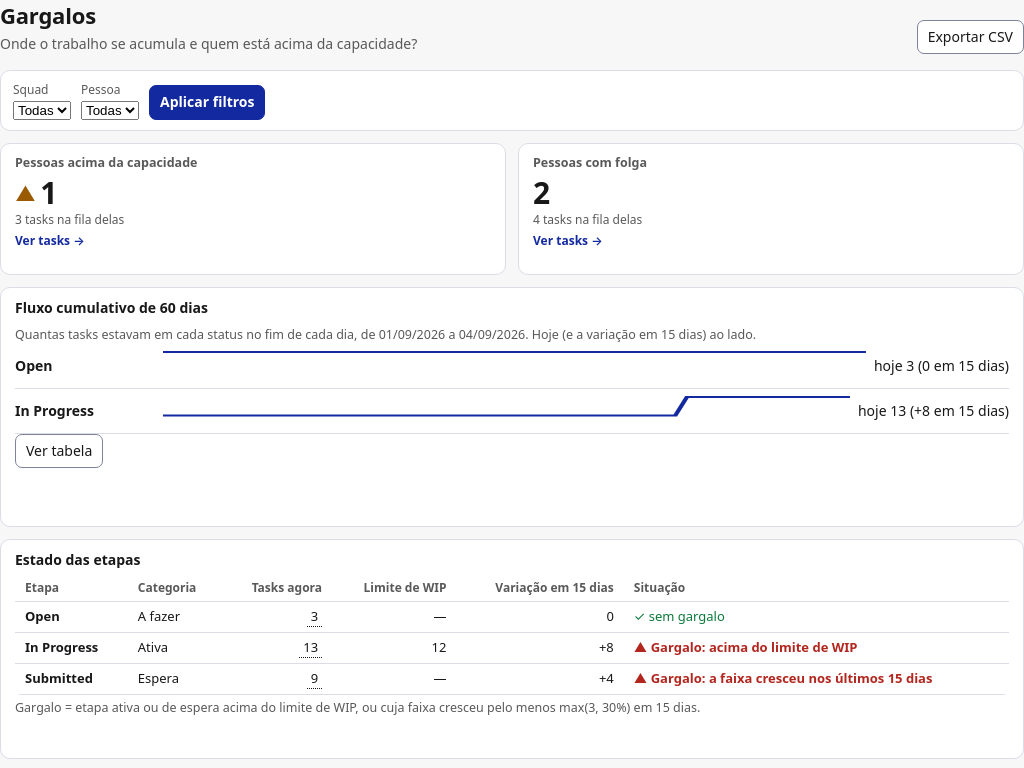
Test: tela Gargalos e fluxo › contagensDePessoasSemRanking
Check: the text "4 tasks na fila delas" is shown, box [533, 211, 642, 228]
Click the button named "Pessoas com folga": (588, 219) [533, 176, 1009, 250]
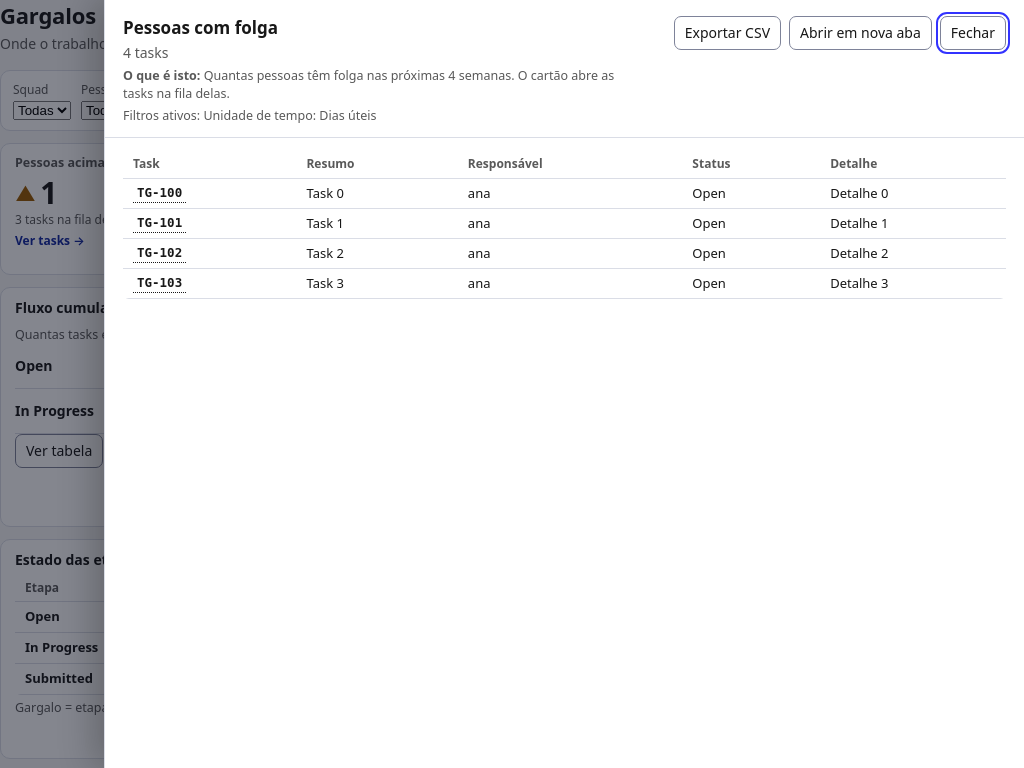
Check: the dialog is shown
